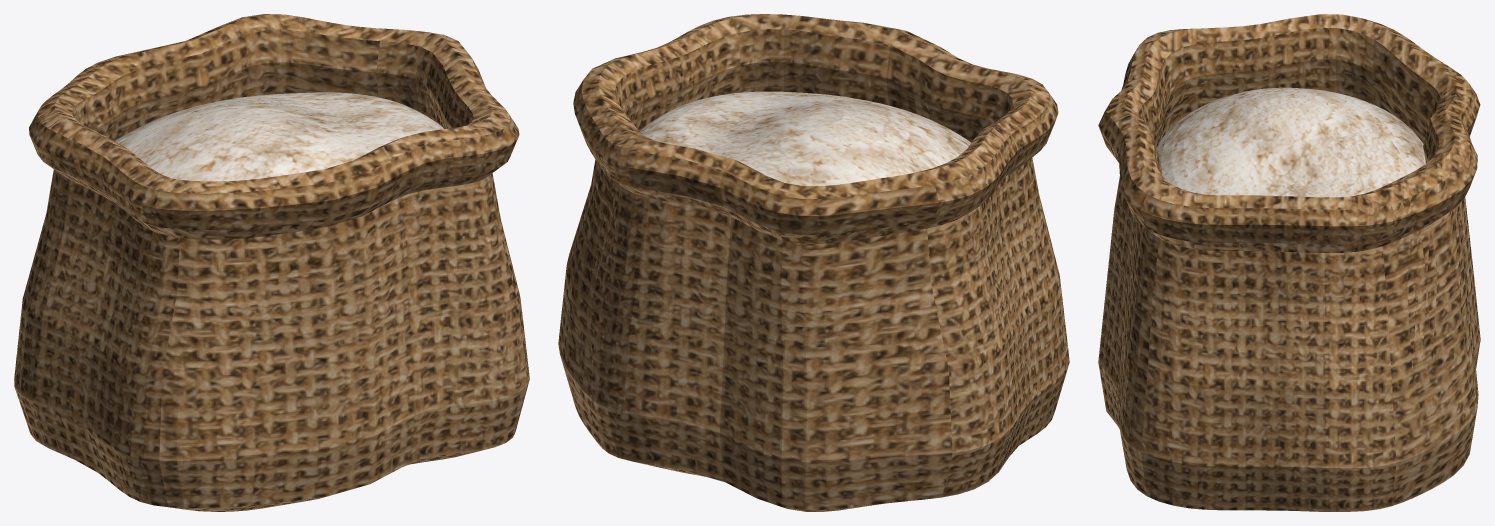
The model's file is flour.obj.
The picture shows the model from 3 angles, left to right: view 1: azimuth 30°, elevation 25°; view 2: azimuth 150°, elevation 25°; view 3: azimuth 270°, elevation 25°; orthographic projection. The views are drawn at different scales.
Parts seen in each view (by area): view 1: sack, flour; view 2: sack, flour; view 3: sack, flour.
Boxes of the visible parts, <box> form: sack: <box>14,14,529,511</box>; flour: <box>115,92,443,181</box>; sack: <box>558,14,1069,511</box>; flour: <box>640,91,970,185</box>; sack: <box>1098,14,1480,511</box>; flour: <box>1156,87,1425,197</box>.
Size of the model in its own units: 116 by 87.44 by 89.96.
2 materials, 2 textured.
